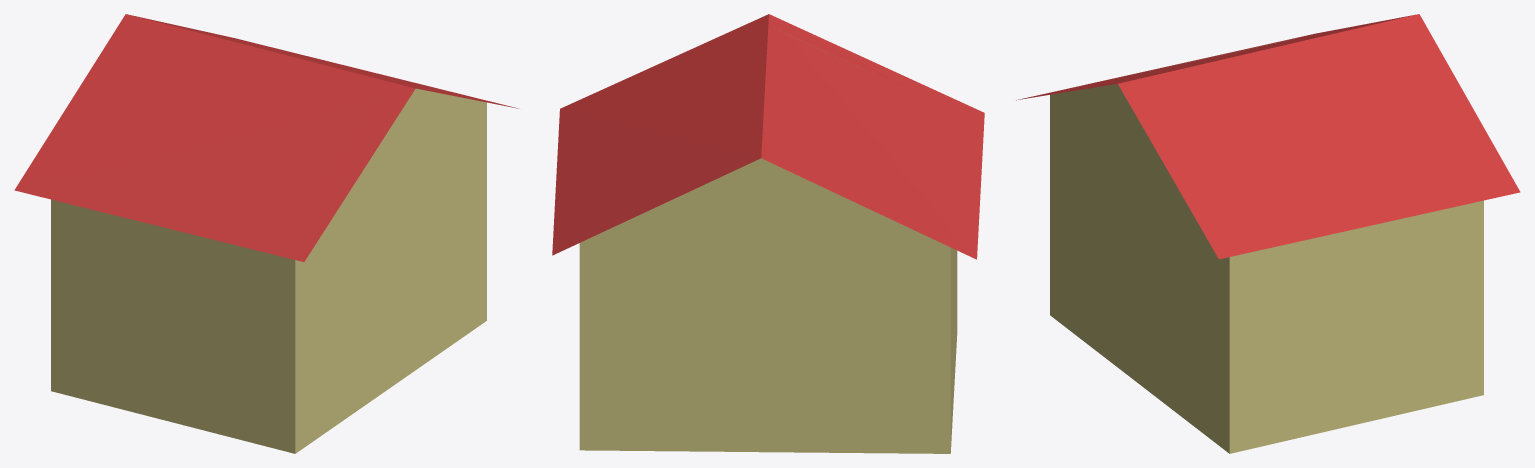
3 renders of one model, left to right at view 1: azimuth 30°, elevation 25°; view 2: azimuth 150°, elevation 25°; view 3: azimuth 270°, elevation 25°, orthographic.
Bounding box in the file's own units: 20 × 18.77 × 12.55.
